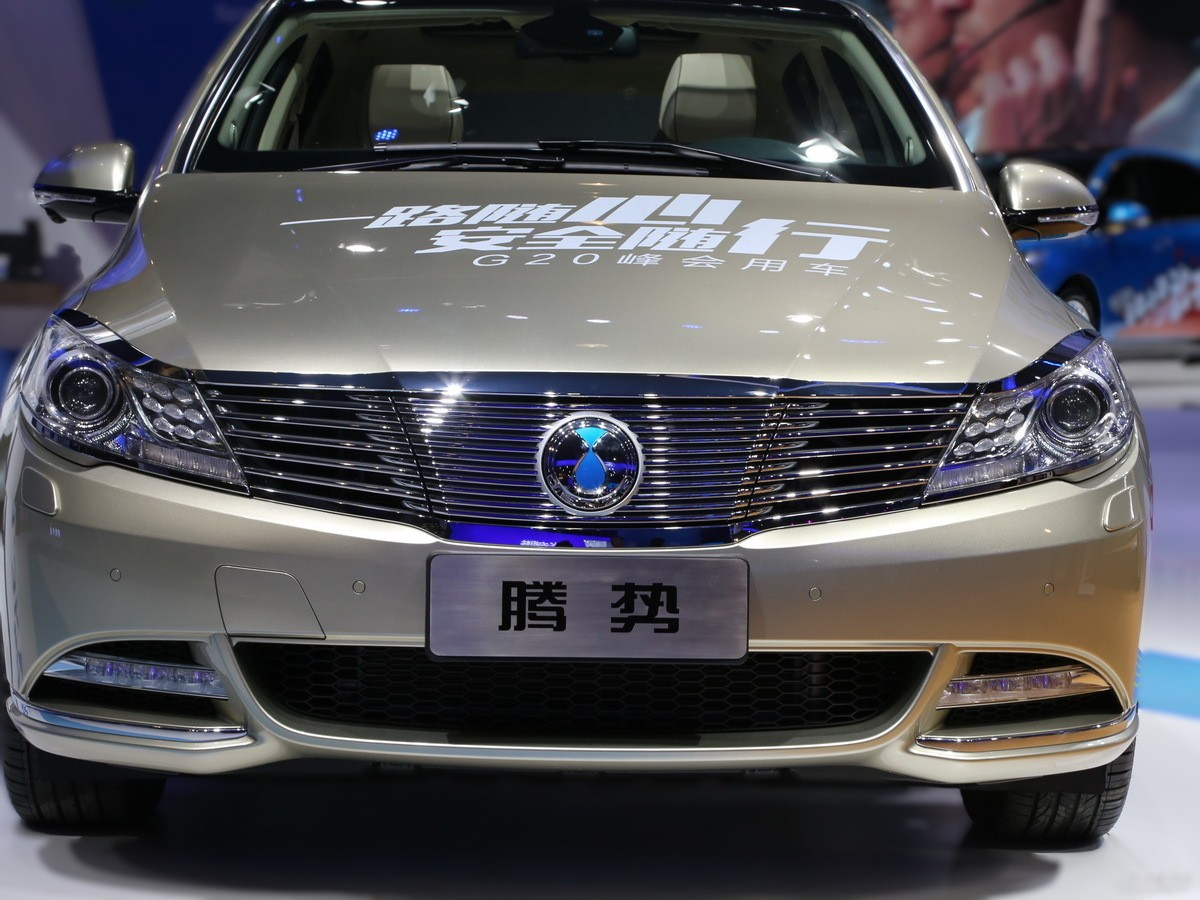DENZA: (543, 418, 637, 509)
